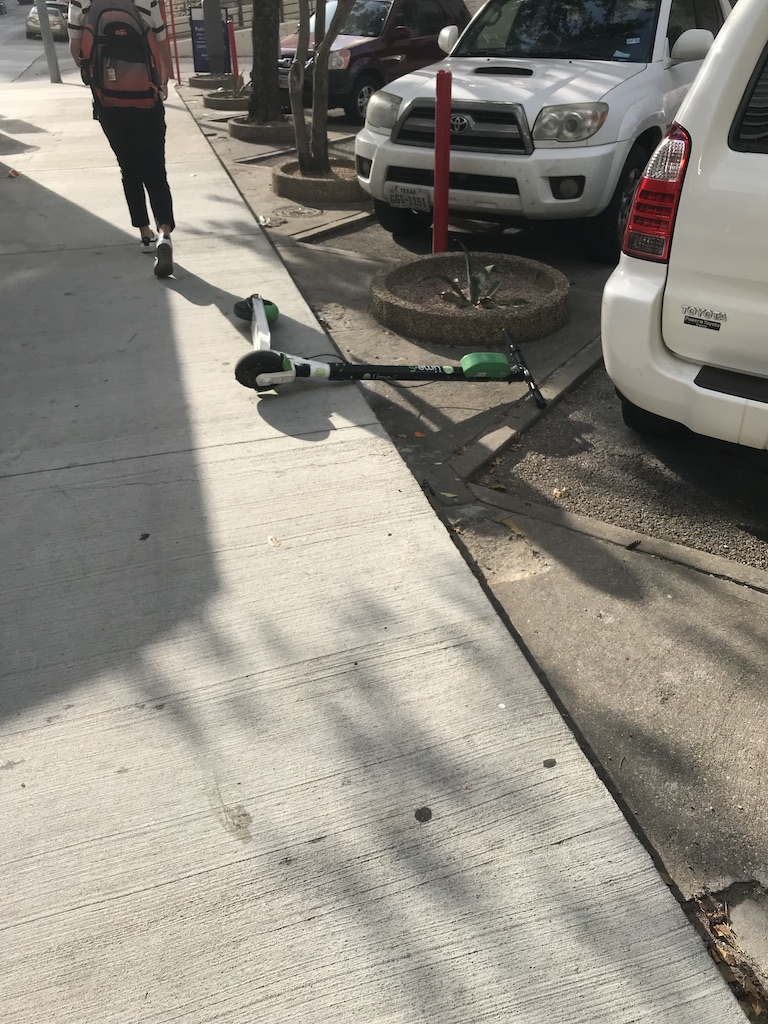scooter: (233, 294, 550, 410)
